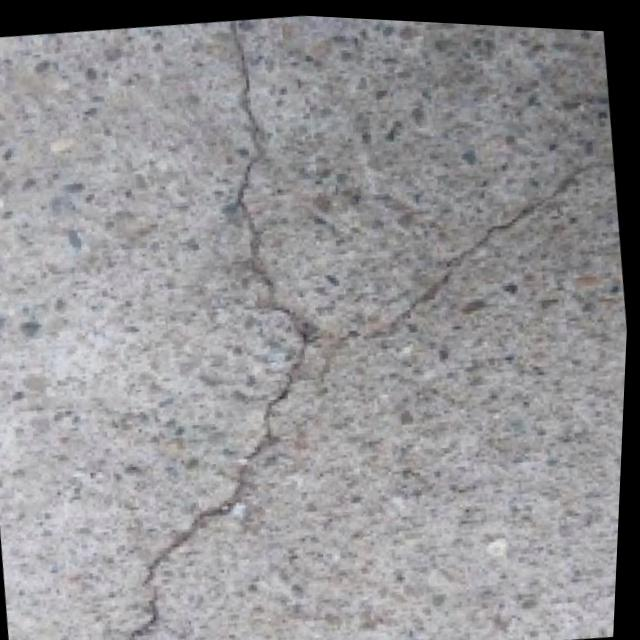Crack: (53, 99, 637, 640), (190, 8, 367, 374)
